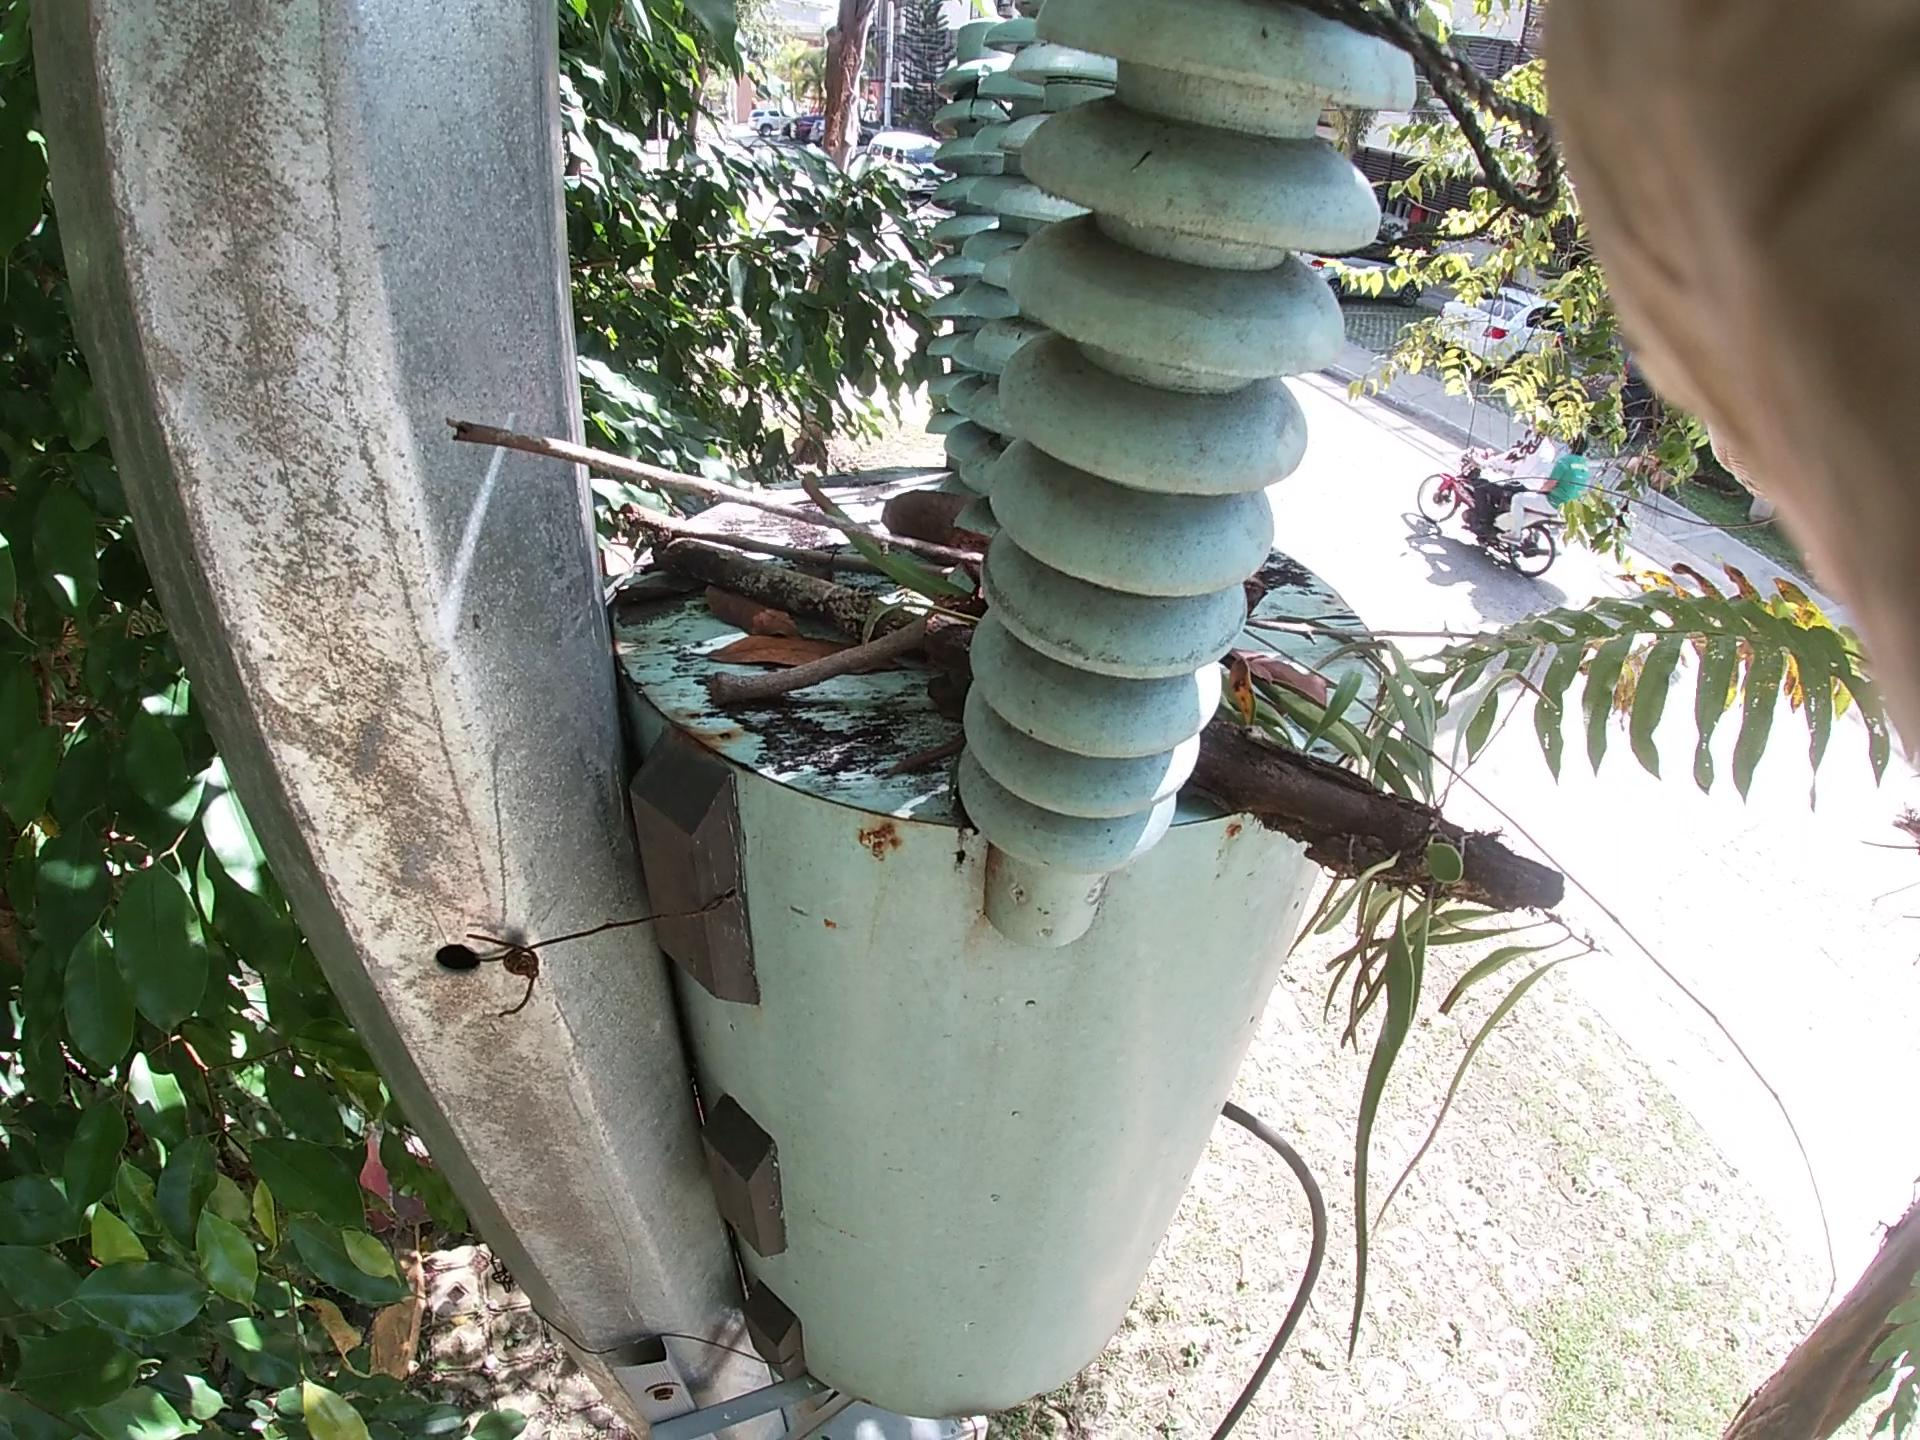branch with leaves: (643, 522, 1587, 915)
leaf: (688, 576, 804, 631), (703, 629, 859, 663)
mahogany fruit: (838, 473, 1303, 640)
tree branch: (443, 417, 999, 584), (689, 613, 980, 697)
